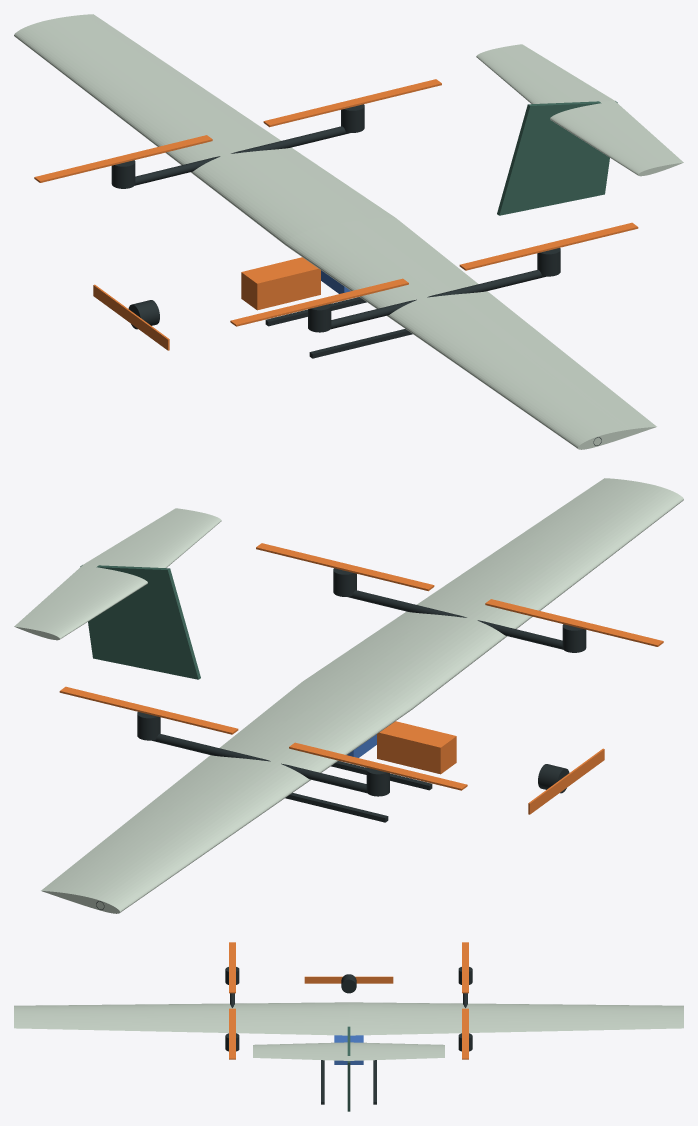
Rendered from 02-internal.glb.
The picture shows the model from 3 angles, top to bottom: view 1: azimuth 30°, elevation 25°; view 2: azimuth 150°, elevation 25°; view 3: azimuth 270°, elevation 25°; orthographic projection. The views are drawn at different scales.
Visible parts, largest first — view 1: wing-1, wing1, fin, tail-1, tail1, battery, boom-1, boom1, prop_-1_700.0, prop_1_700.0, prop_-1_160.0, prop_1_160.0 (+2 smaller); view 2: wing1, wing-1, fin, tail1, tail-1, battery, boom1, boom-1, prop_1_700.0, prop_-1_700.0, prop_1_160.0, prop_-1_160.0 (+2 smaller); view 3: wing-1, wing1, tail-1, tail1, cruise_prop, prop_-1_160.0, prop_-1_700.0, prop_1_160.0, prop_1_700.0, payload, fin.
Boxes of the visible parts, box(x1,y1,x2,y2) form: wing-1: box(285, 217, 656, 449); wing1: box(14, 14, 394, 245); fin: box(497, 101, 617, 215); tail-1: box(550, 100, 683, 176); tail1: box(476, 44, 613, 103); battery: box(241, 257, 320, 310); boom-1: box(331, 270, 546, 329); boom1: box(134, 126, 349, 185); prop_-1_700.0: box(459, 222, 638, 270); prop_1_700.0: box(263, 79, 441, 127); prop_-1_160.0: box(230, 278, 408, 326); prop_1_160.0: box(34, 135, 212, 182); wing1: box(41, 681, 412, 913); wing-1: box(303, 478, 683, 709); fin: box(80, 565, 200, 679); tail1: box(14, 564, 147, 640); tail-1: box(84, 508, 221, 567); battery: box(377, 721, 456, 774); boom1: box(151, 734, 366, 793); boom-1: box(348, 590, 563, 649); prop_1_700.0: box(59, 686, 238, 734); prop_-1_700.0: box(256, 543, 434, 591); prop_1_160.0: box(289, 742, 467, 790); prop_-1_160.0: box(485, 599, 663, 646); wing-1: box(14, 1002, 348, 1035); wing1: box(349, 1002, 683, 1035); tail-1: box(253, 1042, 348, 1060); tail1: box(349, 1042, 444, 1060); cruise_prop: box(304, 976, 393, 983); prop_-1_160.0: box(229, 942, 235, 993); prop_-1_700.0: box(229, 1008, 235, 1059); prop_1_160.0: box(462, 942, 468, 993); prop_1_700.0: box(462, 1008, 468, 1059); payload: box(334, 1035, 363, 1064); fin: box(347, 1026, 350, 1111).
Bounding box in the file's own units: 1144 × 400 × 2300.
